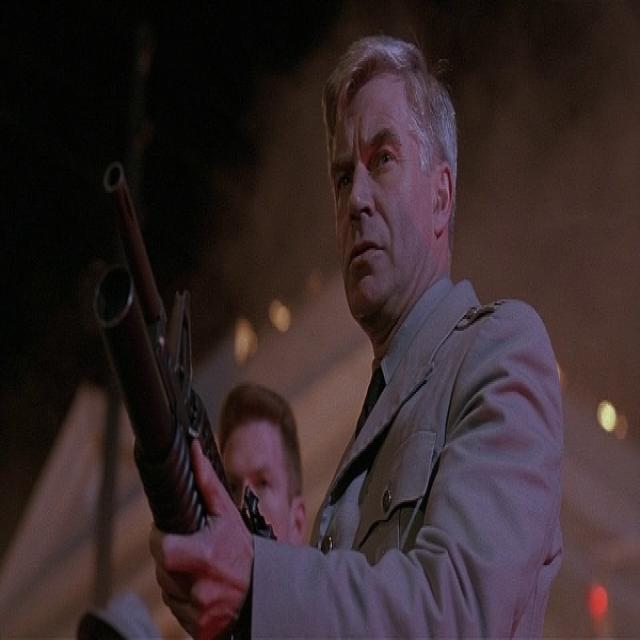rifle: (84, 158, 280, 640)
